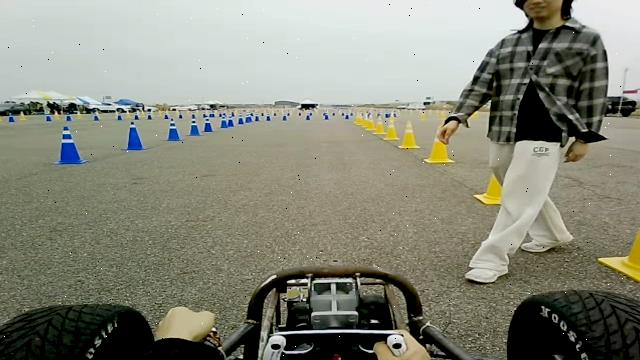blue cone: (52, 126, 88, 165), (120, 121, 148, 151), (164, 118, 184, 141), (187, 112, 200, 136), (203, 114, 212, 132), (219, 114, 228, 128), (254, 110, 262, 125), (244, 111, 253, 123), (44, 111, 52, 124), (227, 113, 234, 127), (146, 110, 154, 120), (237, 113, 244, 124), (93, 110, 100, 121), (8, 112, 14, 124), (116, 109, 122, 120), (266, 110, 272, 121), (66, 112, 72, 121)
yellow cone: (596, 226, 640, 282), (473, 173, 502, 205), (423, 140, 454, 164), (398, 120, 420, 148), (383, 119, 400, 140), (372, 115, 386, 135), (363, 114, 376, 131), (353, 111, 364, 126), (437, 110, 447, 120), (53, 110, 61, 120), (419, 111, 427, 121), (18, 111, 26, 120), (76, 110, 83, 120), (470, 110, 478, 118), (156, 109, 163, 116), (0, 114, 2, 121)
